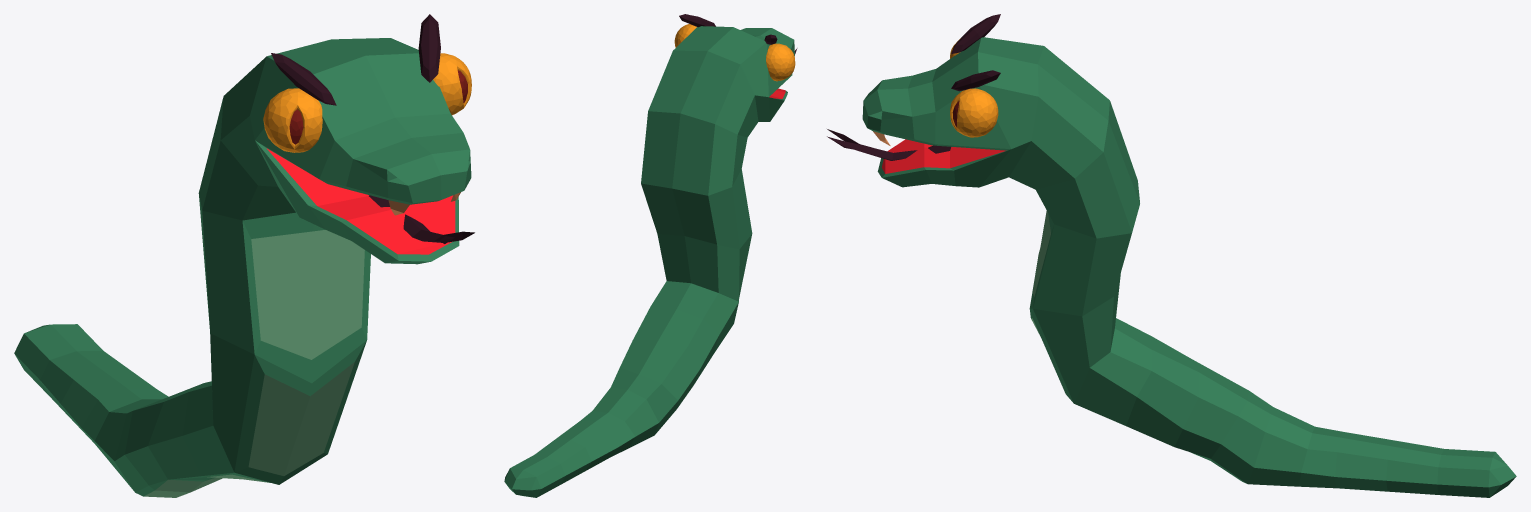
Rendered from Snake_Angry_000013.obj.
3 renders of one model, left to right at view 1: azimuth 30°, elevation 25°; view 2: azimuth 150°, elevation 25°; view 3: azimuth 270°, elevation 25°, orthographic. The views are drawn at different scales.
Visible parts, largest first — view 1: Snake_Cylinder; view 2: Snake_Cylinder; view 3: Snake_Cylinder.
Boxes of the visible parts, <box> form: Snake_Cylinder: <box>14,14,474,497</box>; Snake_Cylinder: <box>504,14,797,497</box>; Snake_Cylinder: <box>827,14,1516,497</box>.
Bounding box in the file's own units: 1.05 × 2.91 × 4.14.
